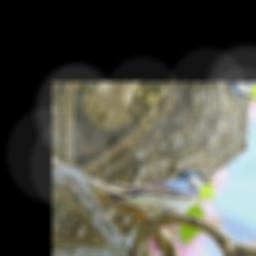Swallow: (94, 133, 214, 245)
